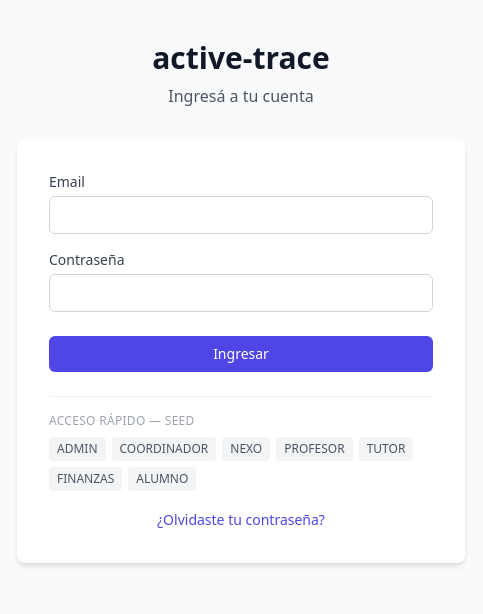
LoginPage › shows error message on 401 without redirecting
This screenshot has width=483, height=614.
Type "wrong@example.com" into the field labelled "Email". click: (241, 214)
box: [49,196,433,234]
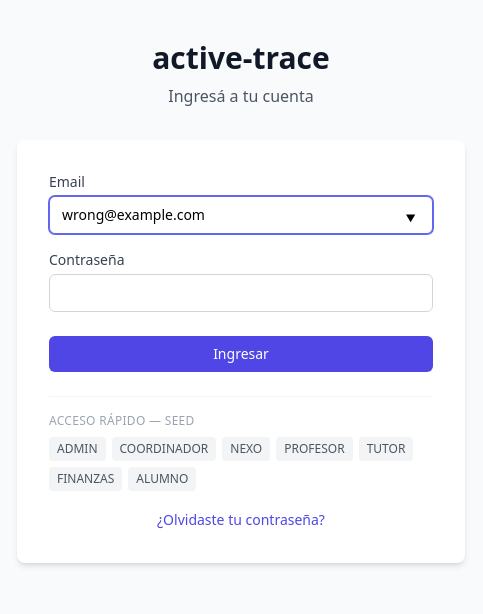
Type "wrongpassword" into the password field labelled "Contraseña". click: (241, 292)
box: [49,274,433,312]
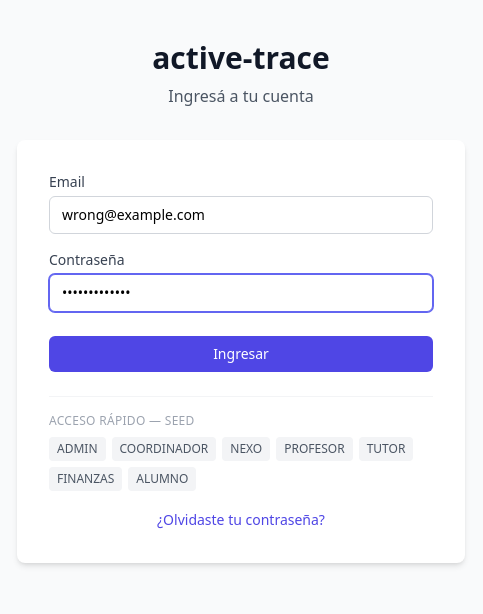
Click the button "Ingresar". click: (241, 354)
box: [49,336,433,372]
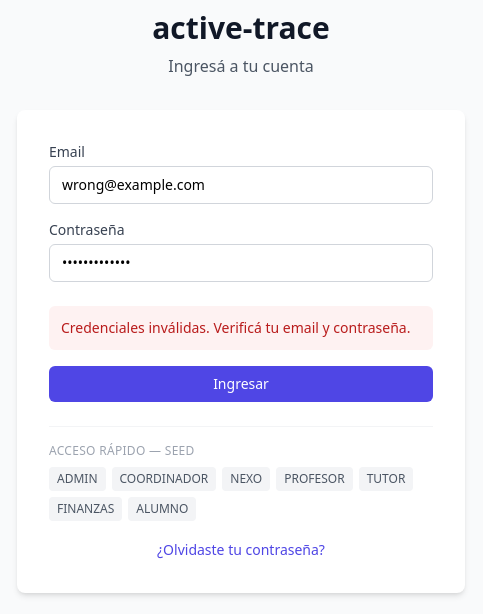
Expected: the button "Ingresar" is shown, [49,366,433,402]
Now the message shows "Credenciales inválidas", box [61,318,410,336]
